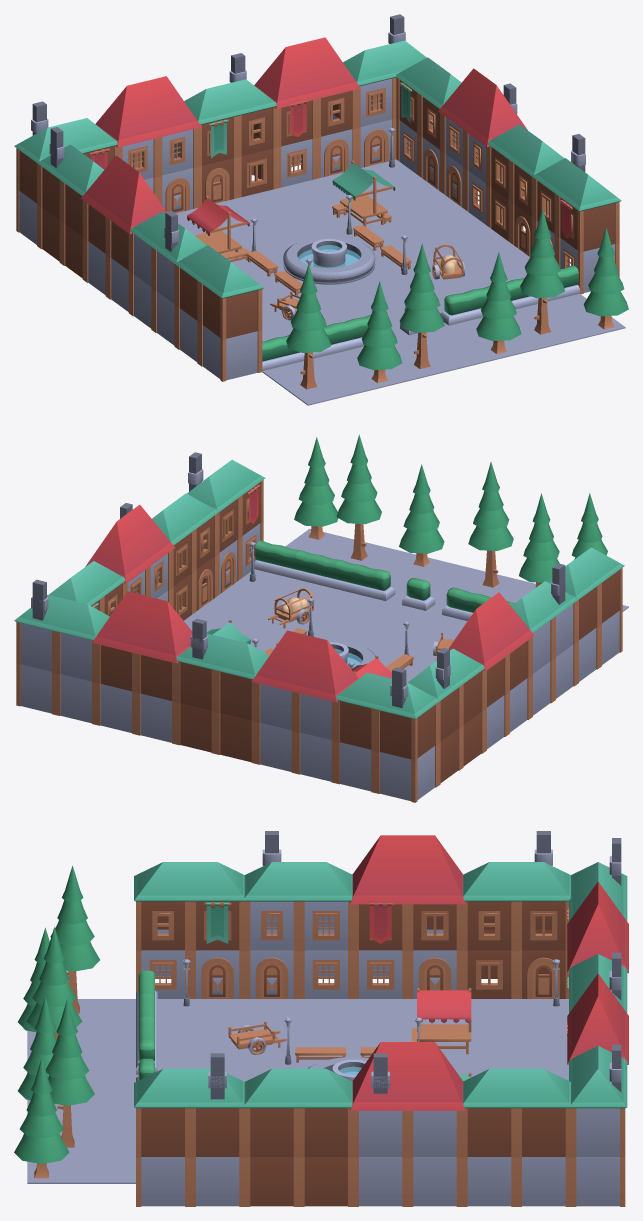
The model's file is room.glb.
The picture shows the model from 3 angles, top to bottom: view 1: azimuth 30°, elevation 25°; view 2: azimuth 150°, elevation 25°; view 3: azimuth 270°, elevation 25°; orthographic projection. The views are drawn at different scales.
Parts seen in each view (by area): view 1: road; view 2: road; view 3: road.
Part boxes in pixels (x1=…): road: x1=14, y1=14, x2=628, y2=405; road: x1=14, y1=434, x2=628, y2=802; road: x1=14, y1=831, x2=628, y2=1206.
Size of the model in its own units: 30.4 by 9.34 by 33.94.
Materials: 2 (1 with a texture image).
